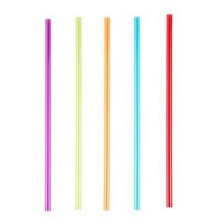drinking_straw: (37, 12, 57, 214), (97, 11, 115, 212), (70, 11, 86, 213), (161, 10, 176, 211), (130, 12, 144, 213)
